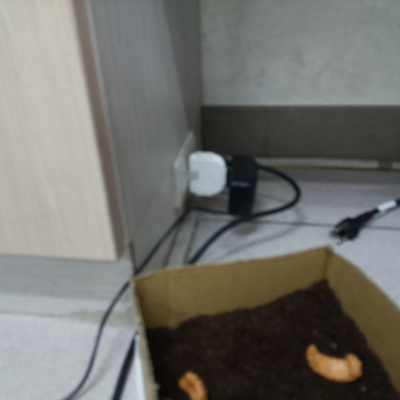eggs: (297, 335, 368, 389), (171, 367, 210, 400)
